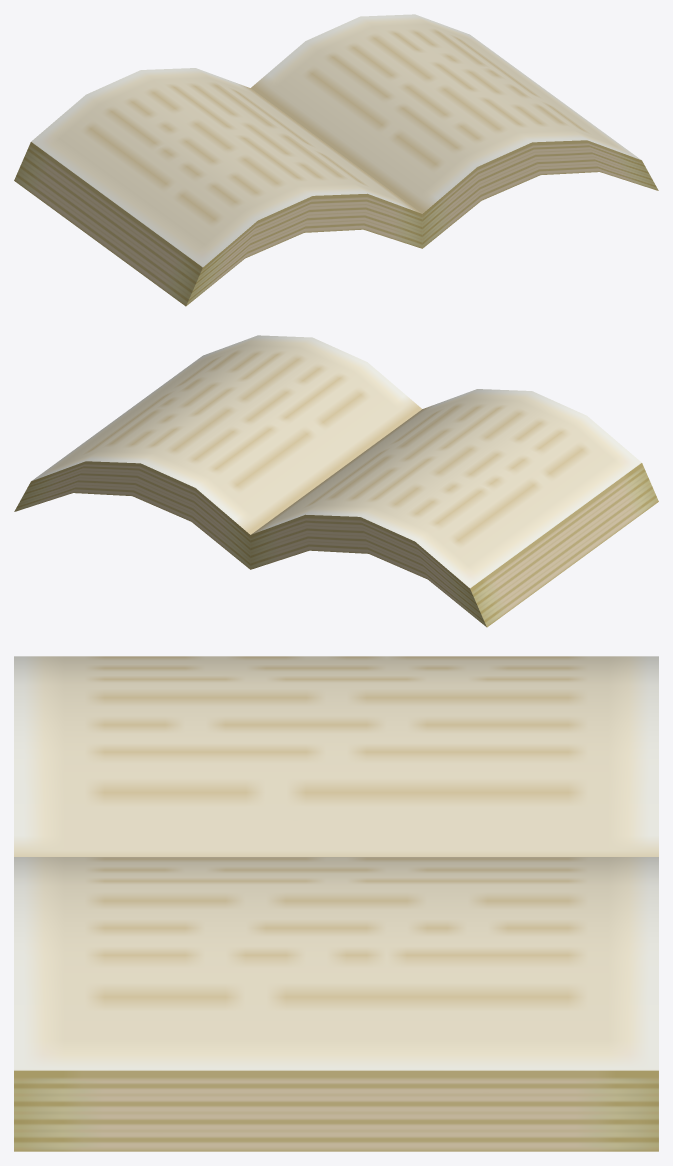
The model's file is Book.obj.
The picture shows the model from 3 angles, top to bottom: view 1: azimuth 30°, elevation 25°; view 2: azimuth 150°, elevation 25°; view 3: azimuth 270°, elevation 25°; orthographic projection. The views are drawn at different scales.
Parts seen in each view (by area): view 1: polygon1; view 2: polygon1; view 3: polygon1.
Part boxes in pixels (left/top/right/bottom): polygon1: left=14, top=14, right=658, bottom=306; polygon1: left=14, top=335, right=658, bottom=627; polygon1: left=14, top=656, right=658, bottom=1151.
Size of the model in its own units: 0.5576 by 0.0898 by 0.3511.
Materials: 2 (2 with a texture image).
